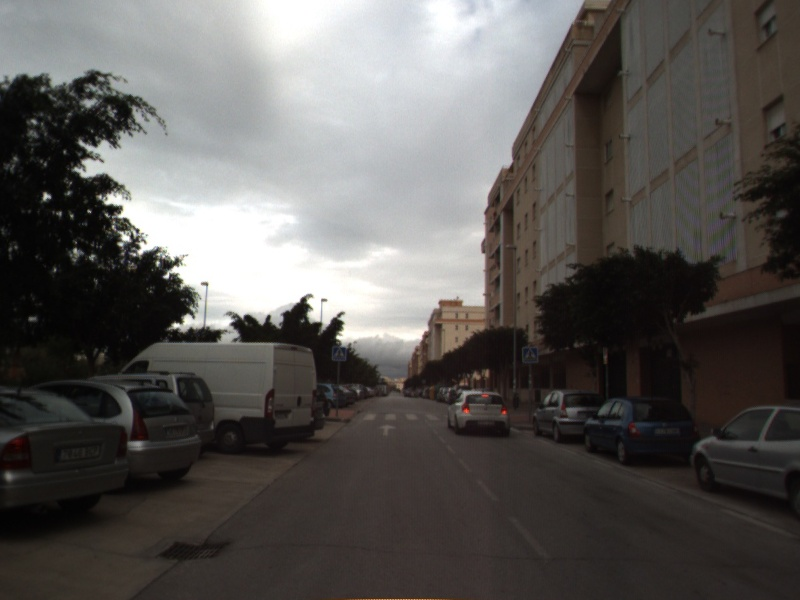STRAIGHT: (375, 421, 399, 438)
